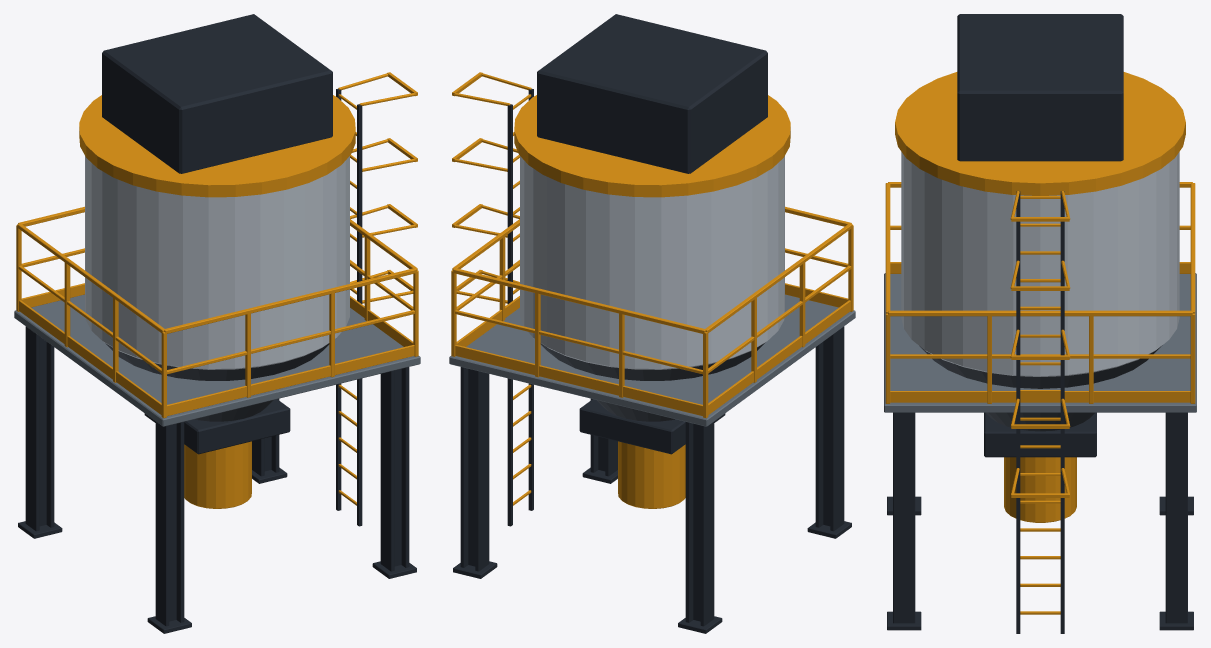
Rendered from train_loadout_silo_tls401.glb.
The picture shows the model from 3 angles, left to right: view 1: azimuth 30°, elevation 25°; view 2: azimuth 150°, elevation 25°; view 3: azimuth 270°, elevation 25°; orthographic projection. The views are drawn at different scales.
Parts seen in each view (by area): view 1: TLS_Col_1.35_1.35_BasePlate; view 2: TLS_Col_1.35_1.35_BasePlate; view 3: TLS_Col_1.35_1.35_BasePlate.
Boxes of the visible parts, box(x1,y1,x2,y2) form: TLS_Col_1.35_1.35_BasePlate: box(14, 14, 420, 633); TLS_Col_1.35_1.35_BasePlate: box(449, 14, 855, 633); TLS_Col_1.35_1.35_BasePlate: box(884, 14, 1196, 633).
Bounding box in the file's own units: 3.79 × 5.61 × 3.1.
Materials: 1 (1 with a texture image).
